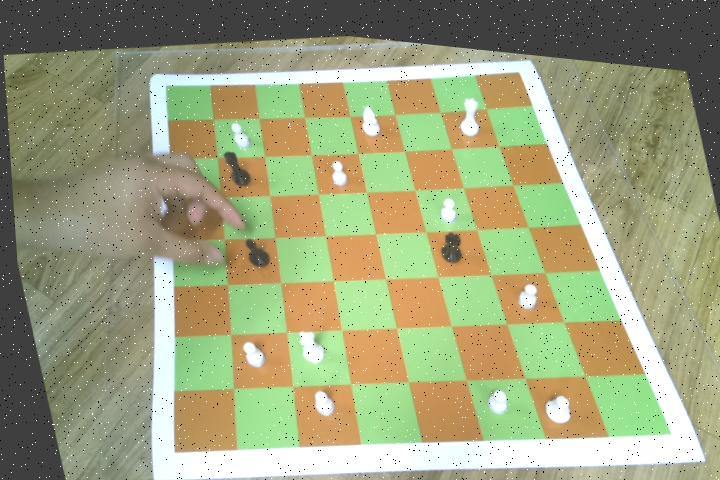chessboard-detect: (165, 59, 667, 450)
